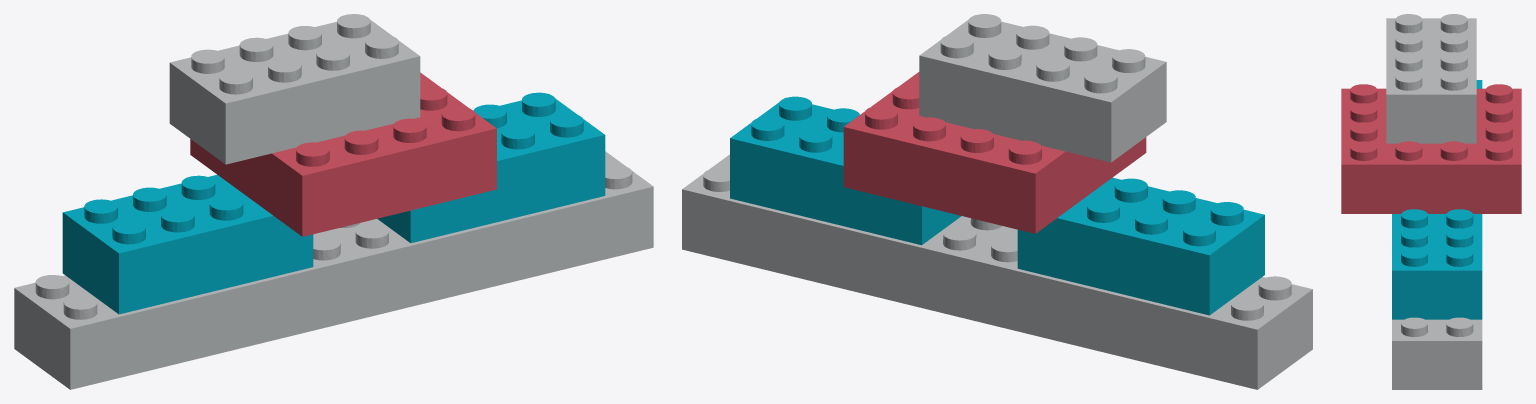
Rendered from Ontwerp-B.glb.
3 views of the same model, side by side, from view 1: azimuth 30°, elevation 25°; view 2: azimuth 150°, elevation 25°; view 3: azimuth 270°, elevation 25° (orthographic). The views are drawn at different scales.
Parts seen in each view (by area): view 1: Mesh_Mesh_head_geo.001_lambert2SG.001; view 2: Mesh_Mesh_head_geo.001_lambert2SG.001; view 3: Mesh_Mesh_head_geo.001_lambert2SG.001.
Boxes of the visible parts, left/top/right/bottom form: Mesh_Mesh_head_geo.001_lambert2SG.001: left=14, top=14, right=653, bottom=389; Mesh_Mesh_head_geo.001_lambert2SG.001: left=682, top=14, right=1312, bottom=389; Mesh_Mesh_head_geo.001_lambert2SG.001: left=1341, top=14, right=1521, bottom=389.
Bounding box in the file's own units: 0.096 × 0.0412 × 0.032.
